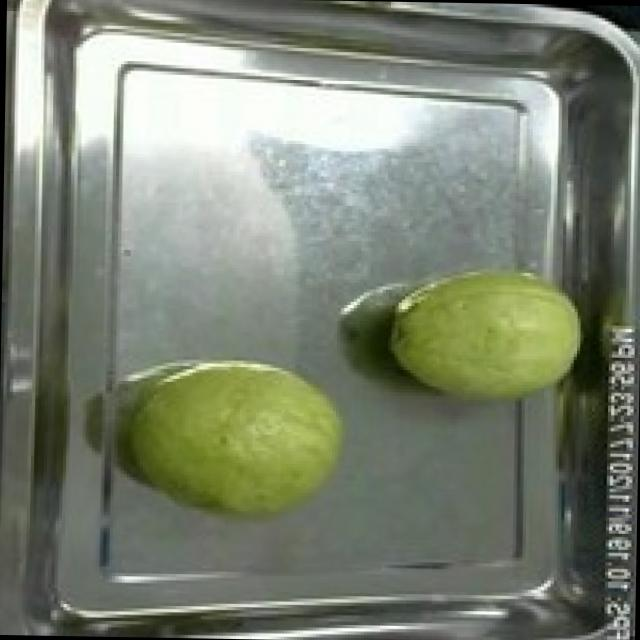Fruit: (118, 342, 358, 532), (379, 253, 596, 414)
